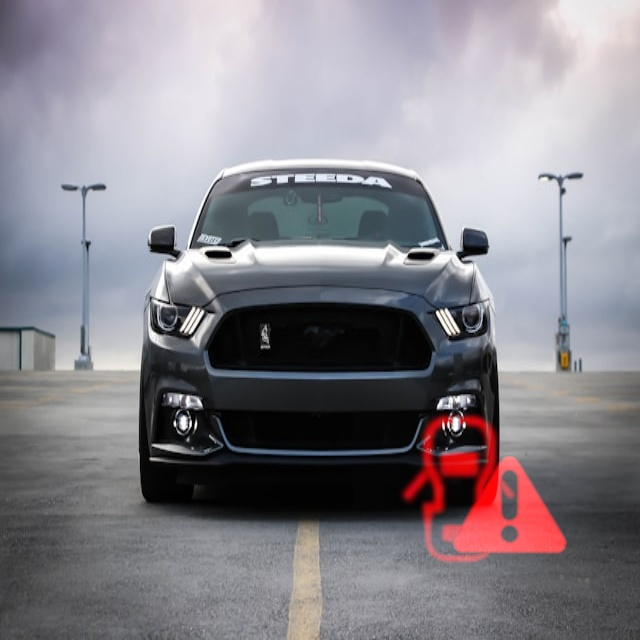symbol: (353, 388, 566, 601), (420, 416, 598, 594), (389, 68, 559, 238)
